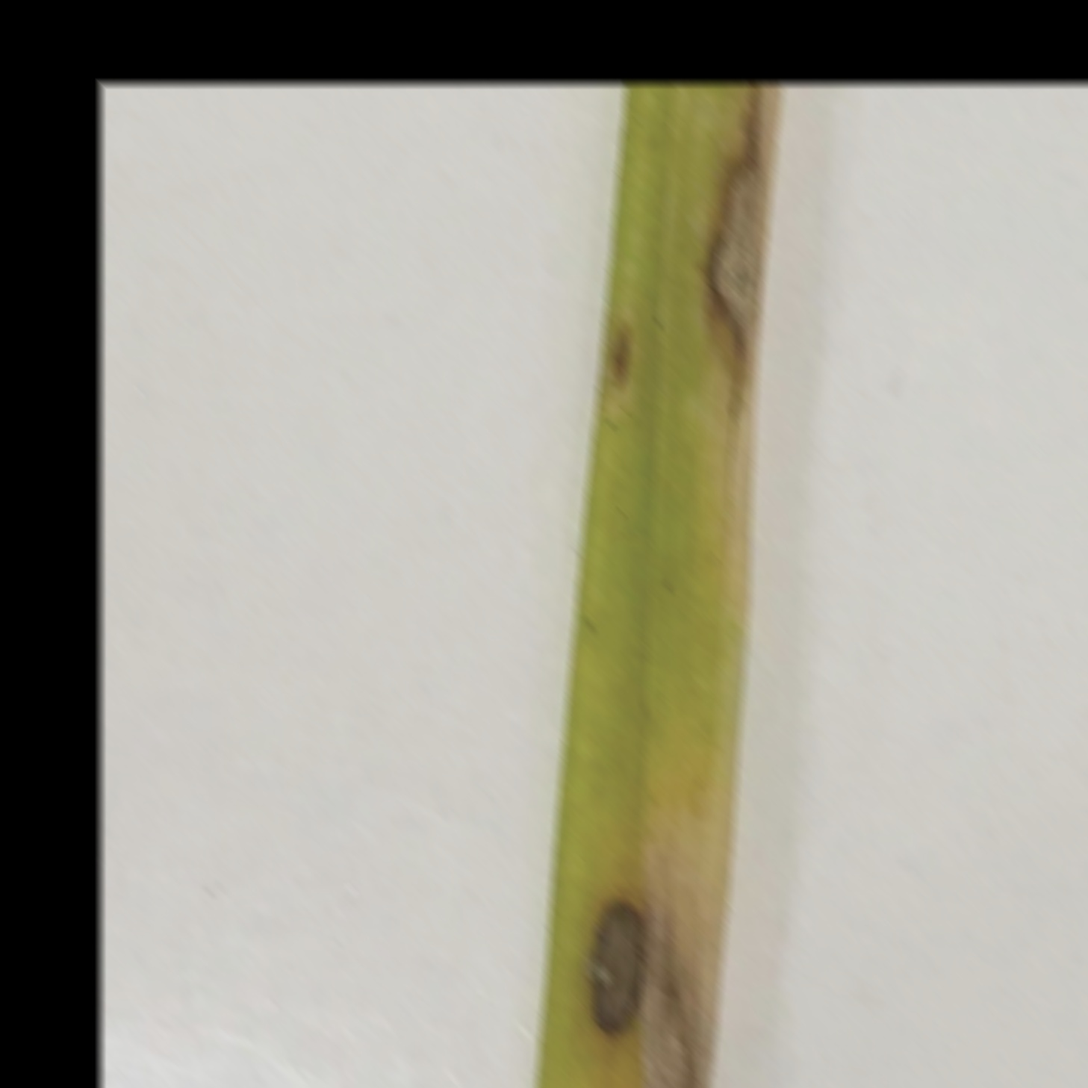Brown_Spot: (565, 814, 695, 1079), (701, 97, 801, 414), (592, 304, 640, 398)
